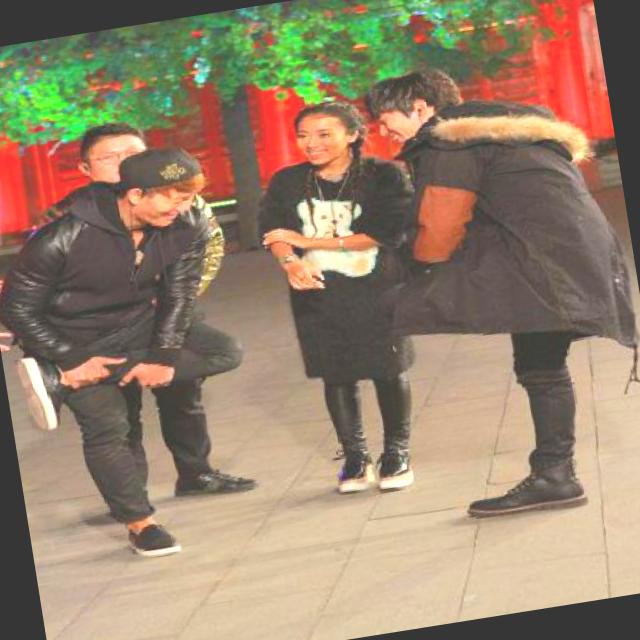Person: (362, 12, 640, 521), (0, 137, 292, 590), (198, 82, 478, 538)
